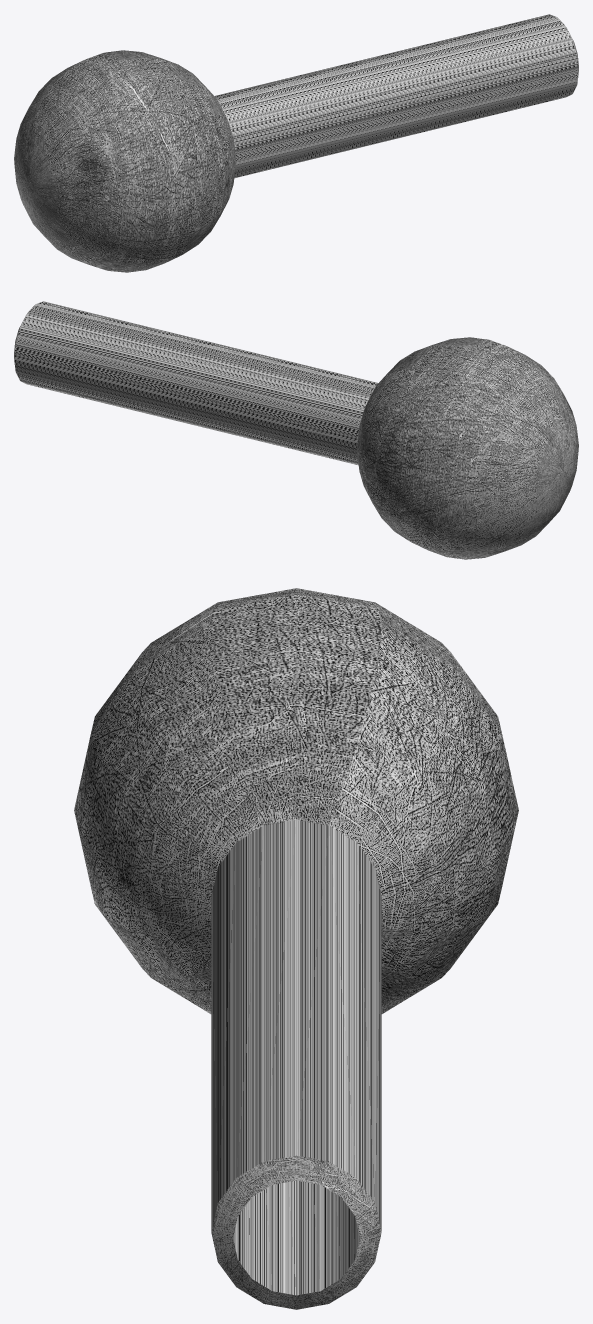
The model's file is toretaLaser.obj.
3 views of the same model, one above another, from view 1: azimuth 30°, elevation 25°; view 2: azimuth 150°, elevation 25°; view 3: azimuth 270°, elevation 25° (orthographic). The views are drawn at different scales.
Visible parts, largest first — view 1: pSphere1; view 2: pSphere1; view 3: pSphere1.
Part boxes in pixels (bbox=[...]): pSphere1: bbox=[14, 14, 578, 272]; pSphere1: bbox=[14, 301, 578, 559]; pSphere1: bbox=[74, 588, 518, 1309].
Bounding box in the file's own units: 33.52 × 12.08 × 12.08.
Materials: 1 (1 with a texture image).
